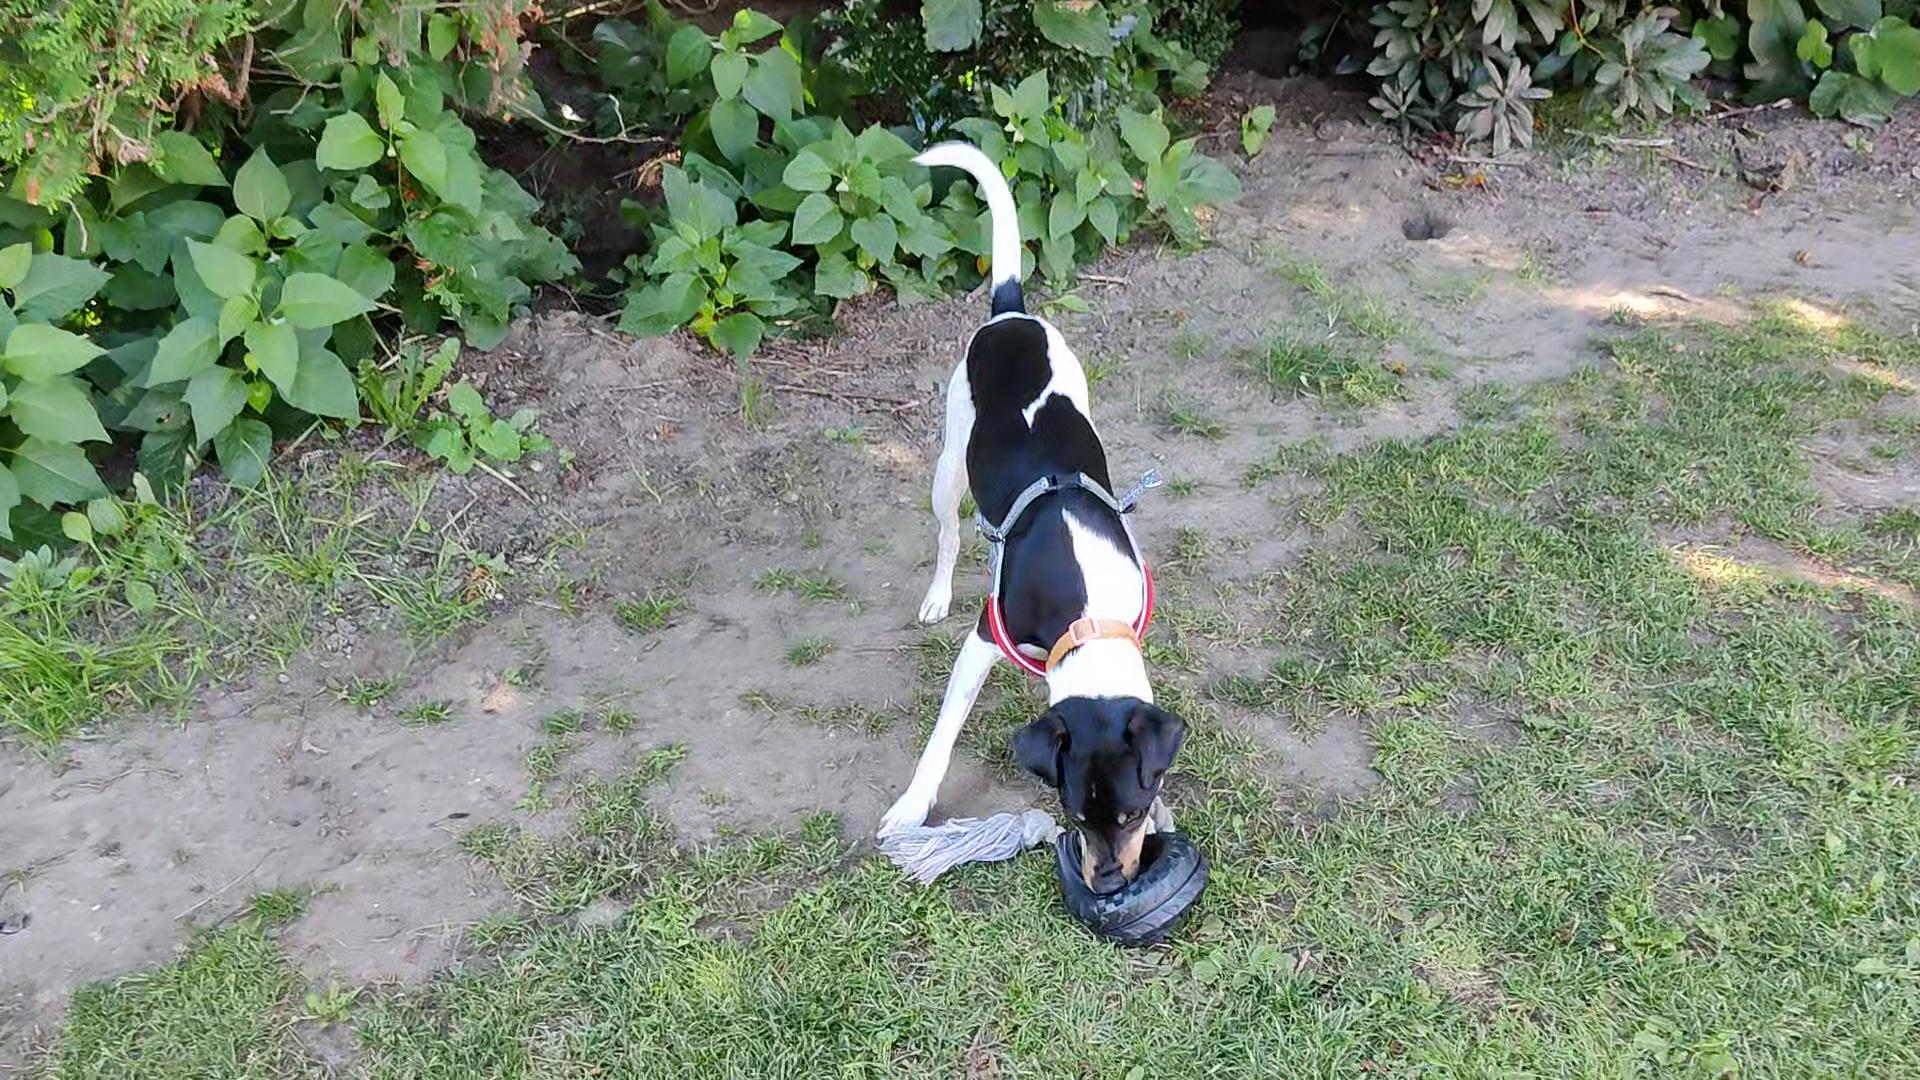Dog: (849, 128, 1216, 873)
